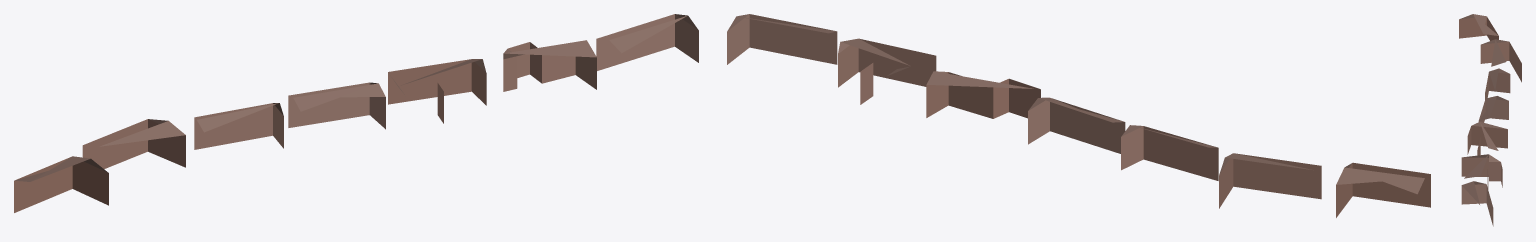
Rendered from c_1641_17837_buildings_residential.glb.
3 renders of one model, left to right at view 1: azimuth 30°, elevation 25°; view 2: azimuth 150°, elevation 25°; view 3: azimuth 270°, elevation 25°, orthographic. The views are drawn at different scales.
Parts seen in each view (by area): view 1: geometry_0; view 2: geometry_0; view 3: geometry_0.
Boxes of the visible parts, bbox=[...] form: geometry_0: bbox=[14, 14, 698, 212]; geometry_0: bbox=[727, 14, 1430, 217]; geometry_0: bbox=[1459, 14, 1521, 226].
Size of the model in its own units: 193 by 10.68 by 26.61.
